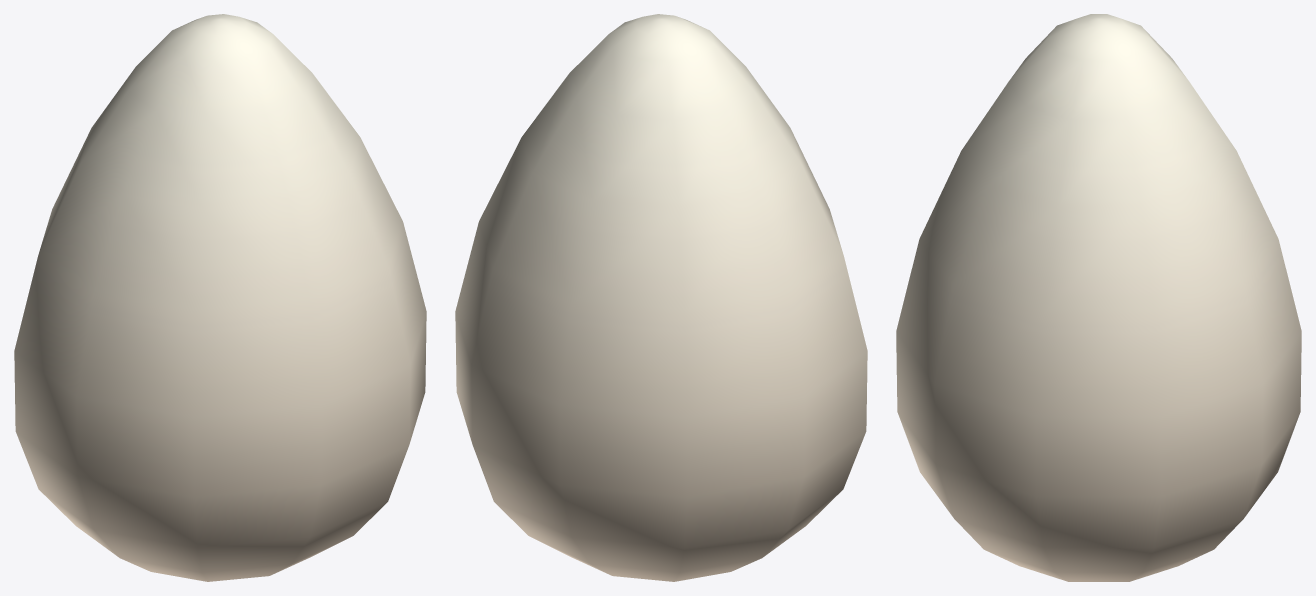
Rendered from egg_single.fbx.
3 views of the same model, side by side, from view 1: azimuth 30°, elevation 25°; view 2: azimuth 150°, elevation 25°; view 3: azimuth 270°, elevation 25° (orthographic).
Parts seen in each view (by area): view 1: egg_single; view 2: egg_single; view 3: egg_single.
Part boxes in pixels (box(x1,y1,x2,y2)): egg_single: box(14, 14, 426, 581); egg_single: box(455, 14, 867, 581); egg_single: box(896, 14, 1301, 581).
Bounding box in the file's own units: 36.51 × 54.16 × 36.64.
